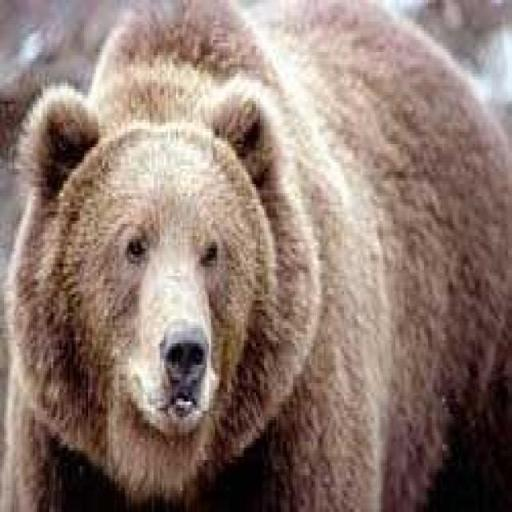Rhino: (0, 0, 510, 509)
